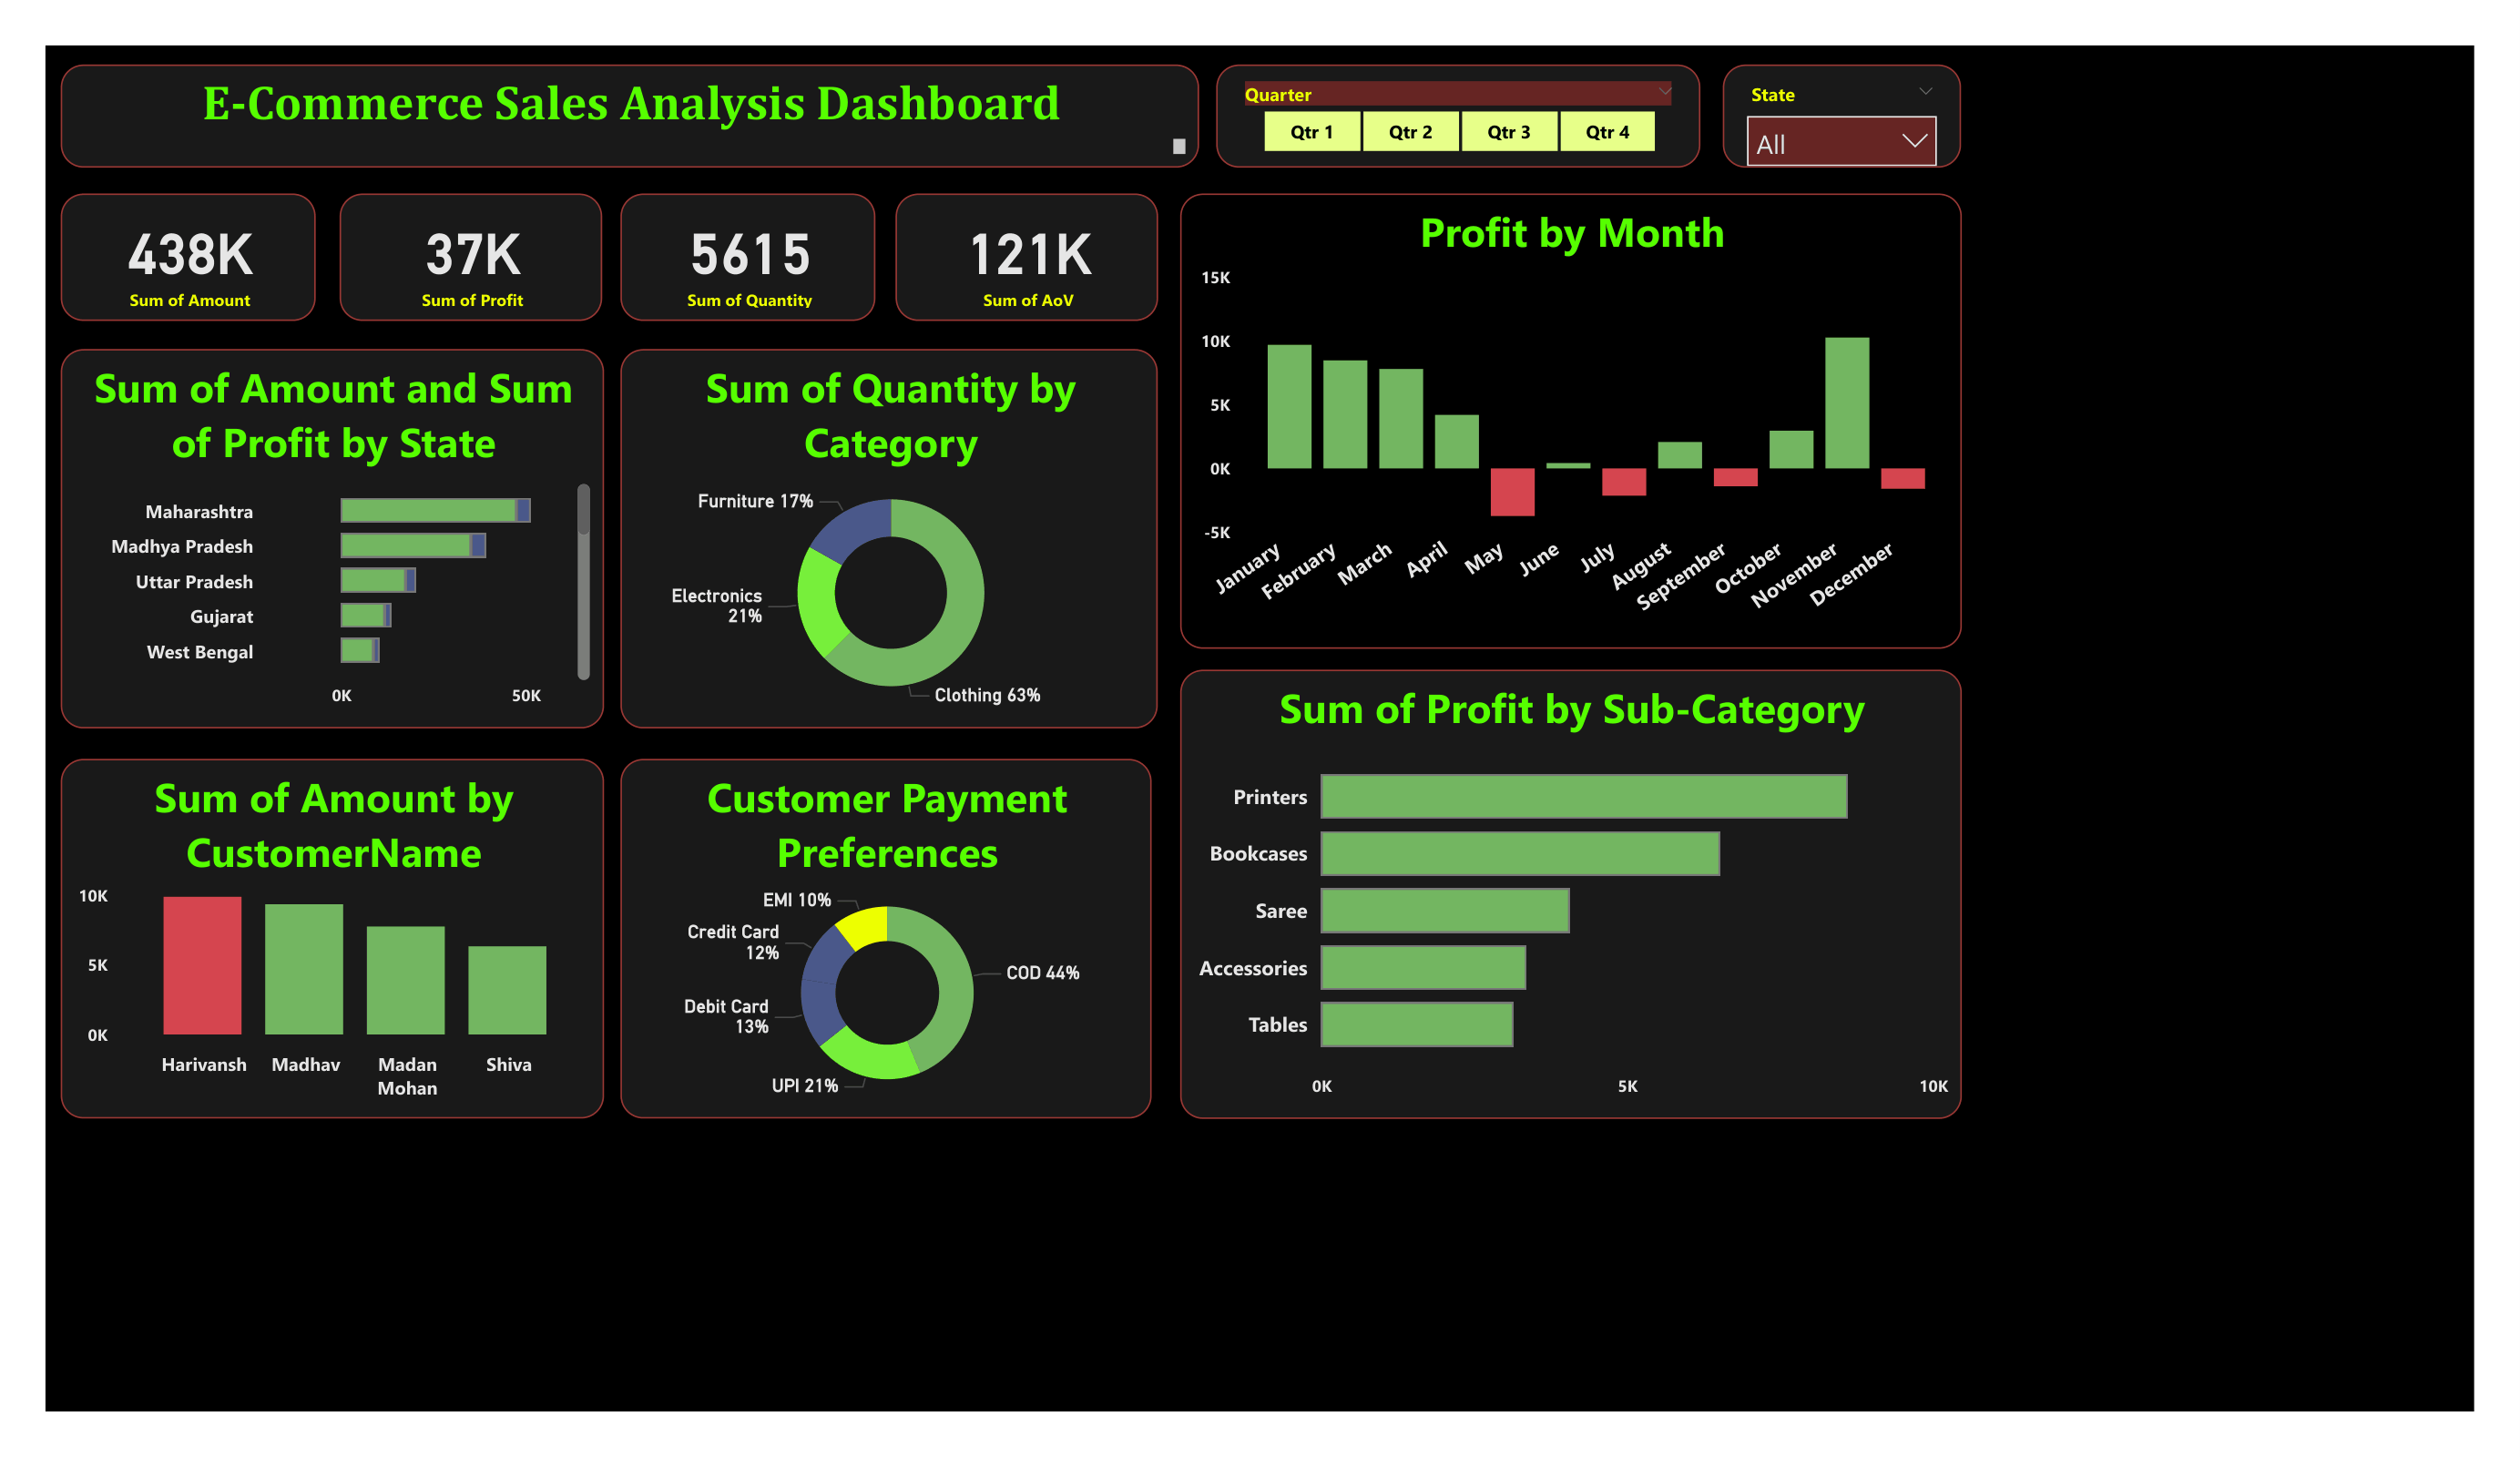

What the dashboard file says about the page in this screenshot:
{"tool":"powerbi","page":{"name":"Online Store Dashboard","canvas":[1280,720],"ordinal":0},"visuals":[{"type":"textbox","title":"E-Commerce Sales Analysis Dashboard ","box":[9.5,13.1,750,67.9],"z":0},{"type":"columnChart","title":"Profit by Month","fields":{"Category":["Orders.Order Date.Variation.Date Hierarchy.Month"],"Y":["Sum(Details.Profit)"]},"box":[747,97,515,300.4],"z":1000},{"type":"barChart","fields":{"Category":["Details.Sub-Category"],"Y":["Sum(Details.Profit)"]},"box":[747,411.7,515,295.6],"z":2000},{"type":"donutChart","fields":{"Category":["Details.Category"],"Y":["Sum(Details.Quantity)"]},"box":[378.3,200.3,354.4,249.5],"z":3000},{"type":"donutChart","title":"Customer Payment Preferences","fields":{"Y":["Sum(Details.Quantity)"],"Category":["Details.PaymentMode"]},"box":[378.3,470.5,349.7,236.8],"z":4000},{"type":"card","fields":{"Values":["Sum(Details.Amount)"]},"box":[9.5,97,168.5,84.2],"z":5000},{"type":"card","fields":{"Values":["Sum(Details.Quantity)"]},"box":[378.3,97,168.5,84.2],"z":6000},{"type":"card","fields":{"Values":["Sum(Details.Profit)"]},"box":[193.9,97,173.2,84.2],"z":7000},{"type":"card","fields":{"Values":["Sum(Details.AoV)"]},"box":[559.5,97,173.2,84.2],"z":8000},{"type":"barChart","fields":{"Category":["Orders.State","Details.Sub-Category"],"Y":["Sum(Details.Amount)","Sum(Details.Profit)"]},"box":[9.5,200.3,357.6,249.5],"z":9000},{"type":"columnChart","fields":{"Category":["Orders.CustomerName"],"Y":["Sum(Details.Amount)"]},"box":[10,470,358,237],"z":10000},{"type":"slicer","fields":{"Values":["Orders.Order Date.Variation.Date Hierarchy.Quarter"]},"box":[770.9,12.7,319.5,68.3],"z":11000},{"type":"slicer","fields":{"Values":["Orders.State"]},"box":[1104.6,12.7,157.4,68.3],"z":12000}]}

Visuals, with their boxes in screenshot pixels (x1, y1, x2, y2):
"E-Commerce Sales Analysis Dashboard " textbox: select_region(38, 52, 1495, 183)
"Profit by Month" columnChart: select_region(1470, 215, 2470, 798)
barChart - Details.Sub-Category x Sum(Details.Profit): select_region(1470, 825, 2470, 1400)
donutChart - Details.Category x Sum(Details.Quantity): select_region(754, 415, 1443, 900)
"Customer Payment Preferences" donutChart: select_region(754, 940, 1433, 1400)
card - Sum(Details.Amount): select_region(38, 215, 365, 378)
card - Sum(Details.Quantity): select_region(754, 215, 1081, 378)
card - Sum(Details.Profit): select_region(396, 215, 732, 378)
card - Sum(Details.AoV): select_region(1106, 215, 1443, 378)
barChart - Orders.State x Details.Sub-Category: select_region(38, 415, 732, 900)
columnChart - Orders.CustomerName x Sum(Details.Amount): select_region(39, 939, 734, 1399)
slicer - Orders.Order Date.Variation.Date Hierarchy.Quarter: select_region(1516, 51, 2137, 183)
slicer - Orders.State: select_region(2164, 51, 2470, 183)
